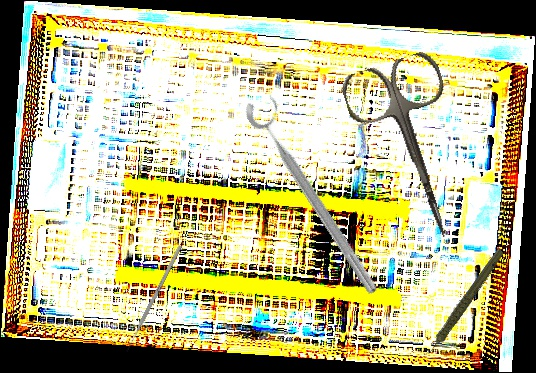Fixation Ring: (240, 88, 394, 299)
Handpiece: (402, 246, 523, 359)
Iris Scissors: (338, 48, 489, 253)
Pusher: (124, 245, 183, 353)
